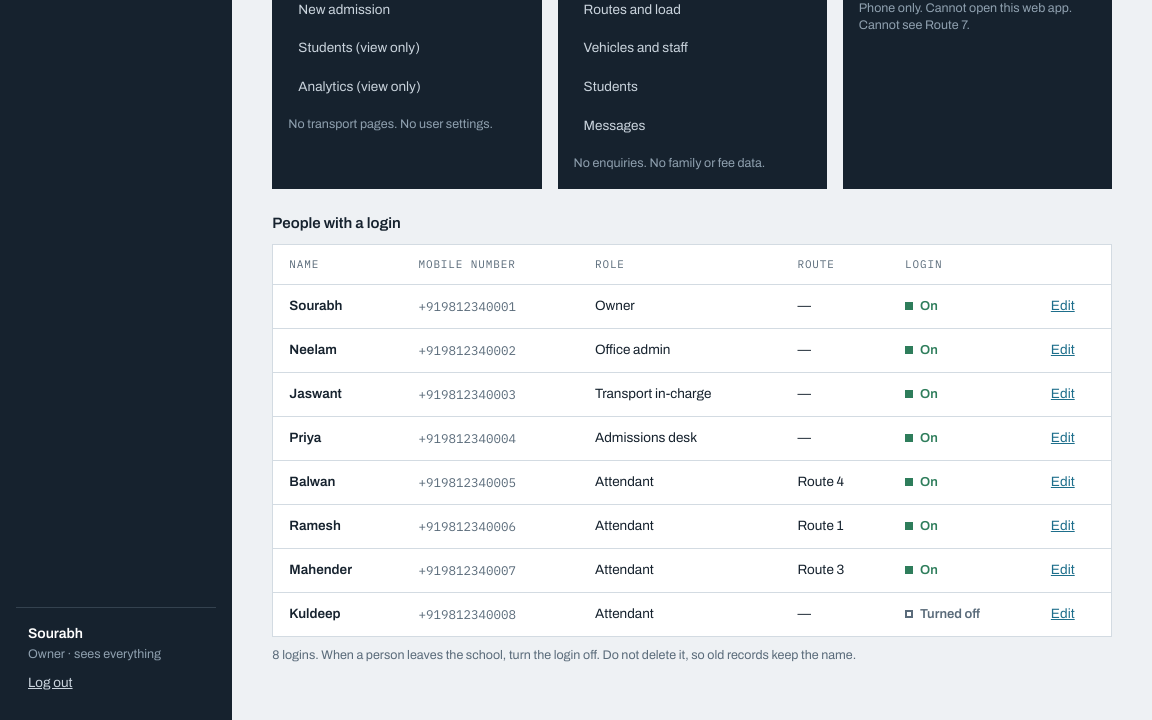
Test: Users and roles page › turningOffAUserAsksFirst
(page scrolled)
Expected: the table named "People with a login" is shown, [273,245,1111,636]
Click the button with aria-label "Edit Balwan": (1063, 482) [1051,473,1075,492]
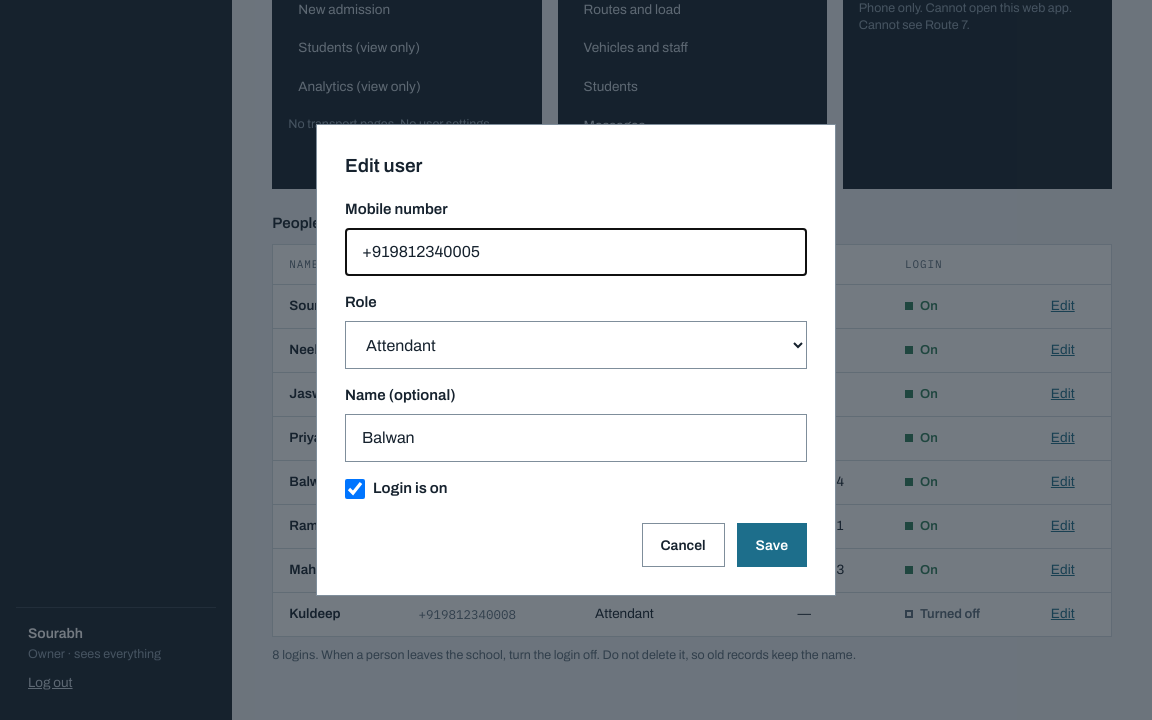
Click the checkbox labelled "Login is on": (355, 489) [345,479,365,499]
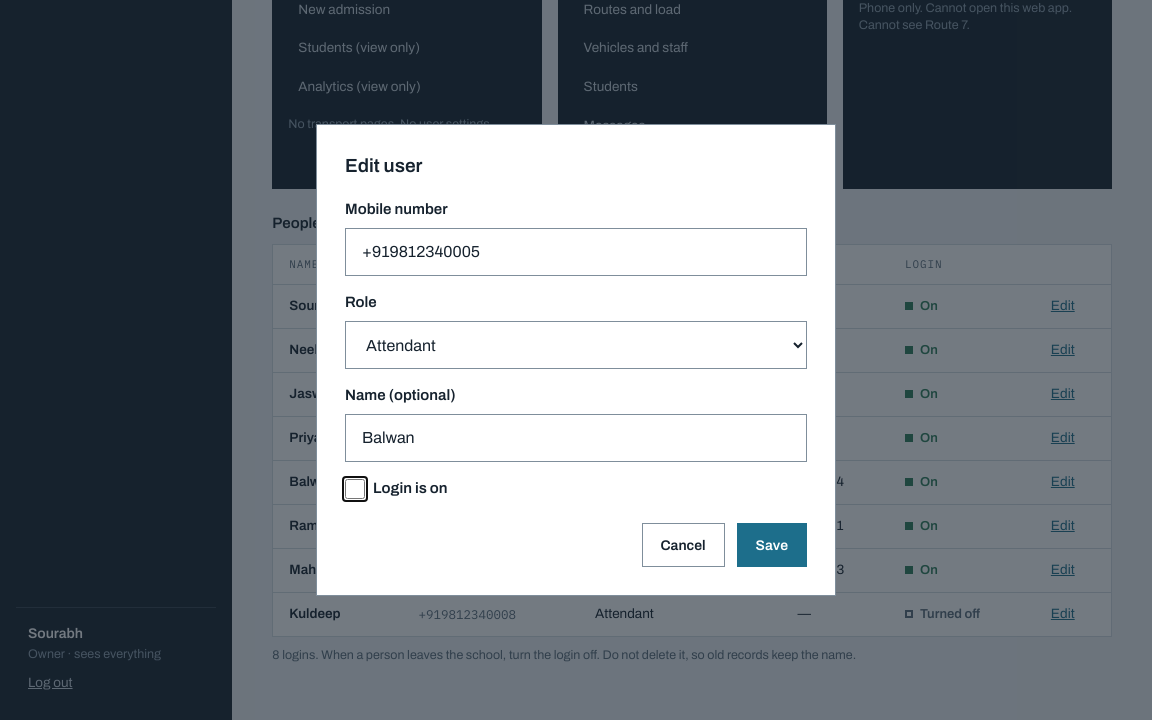
Click the button "Save": (772, 545) [737,523,807,567]
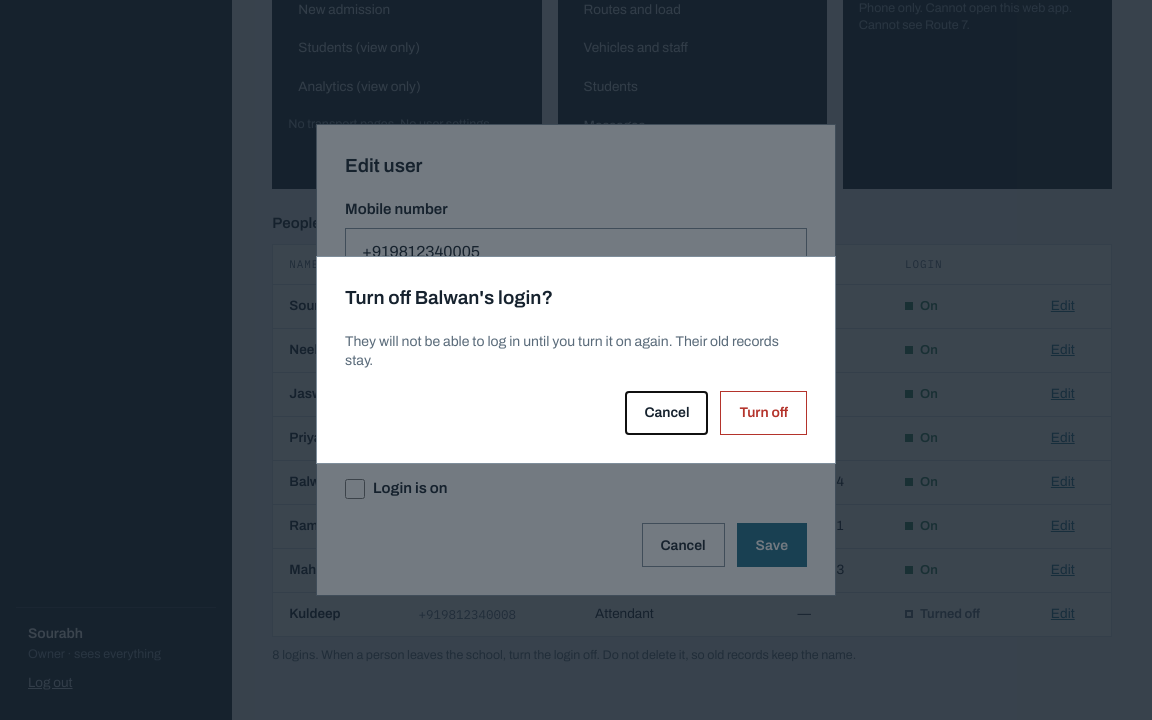
Click the button "Turn off": (764, 413) [720,391,807,435]
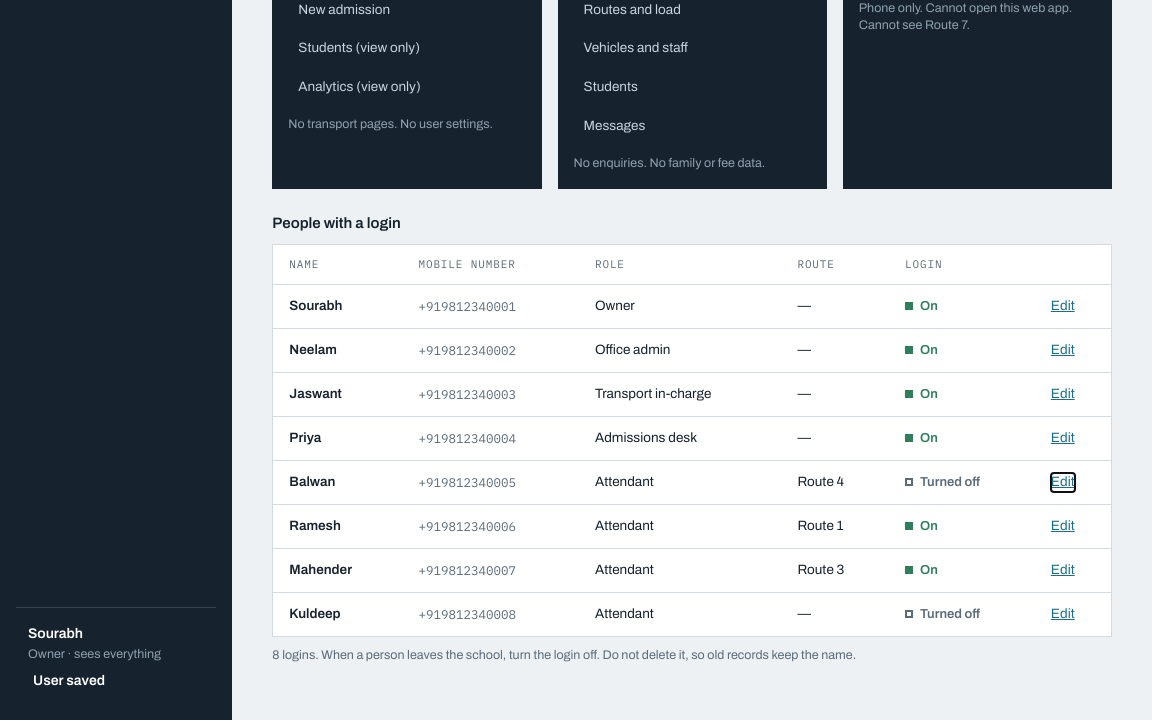
Expected: the text "Turned off" is shown 2 times, [905,473,980,491]; [905,605,980,623]
Expected: the text "User saved" is shown, [16,658,122,704]
Expected: the dialog is gone
